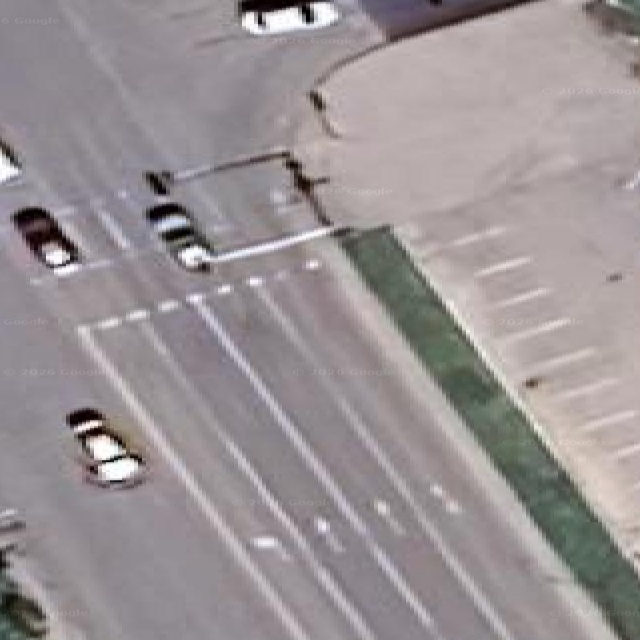car: (66, 408, 145, 487), (12, 207, 79, 274), (146, 203, 213, 270), (239, 0, 339, 34), (0, 139, 21, 184)
